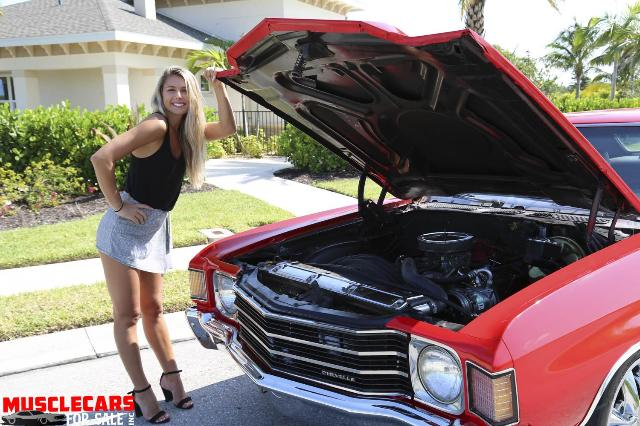chevelle-1972: (184, 19, 640, 426)
